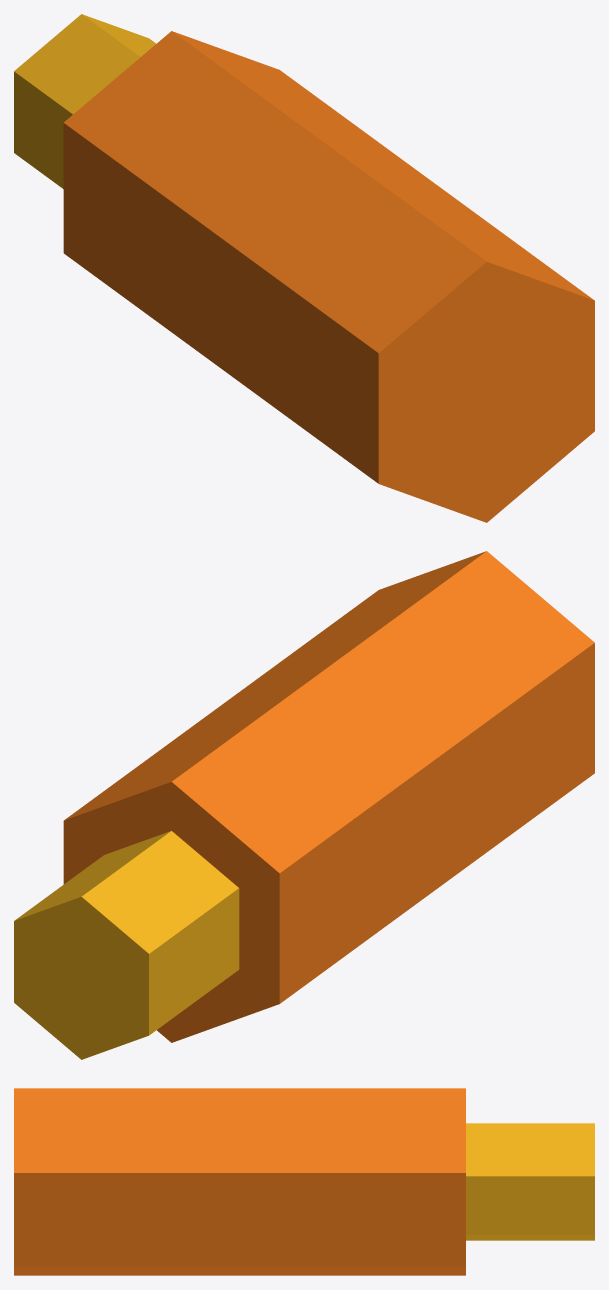
Rendered from flame.glb.
3 renders of one model, top to bottom at view 1: azimuth 30°, elevation 25°; view 2: azimuth 150°, elevation 25°; view 3: azimuth 270°, elevation 25°, orthographic. The views are drawn at different scales.
Visible parts, largest first — view 1: flame; view 2: flame; view 3: flame.
Part boxes in pixels (x1,y1,x2,y2): flame: [14, 14, 594, 522]; flame: [14, 551, 594, 1059]; flame: [14, 1088, 594, 1275].
Size of the model in its own units: 0.2771 by 0.32 by 0.9.
